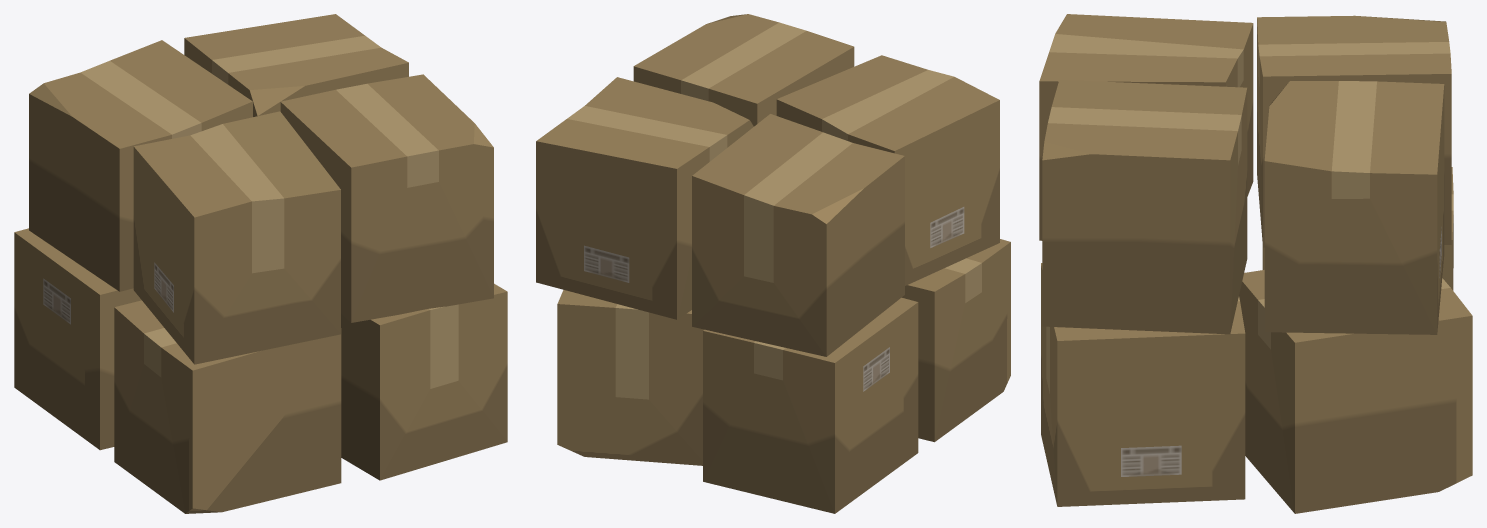
File: SM_Prop_CardboardBox_Stack_01.fbx
3 views of the same model, side by side, from view 1: azimuth 30°, elevation 25°; view 2: azimuth 150°, elevation 25°; view 3: azimuth 270°, elevation 25° (orthographic). The views are drawn at different scales.
Parts seen in each view (by area): view 1: SM_Prop_CardboardBox_Stack_01; view 2: SM_Prop_CardboardBox_Stack_01; view 3: SM_Prop_CardboardBox_Stack_01.
Part boxes in pixels (x1,y1,x2,y2): SM_Prop_CardboardBox_Stack_01: (14, 14, 507, 513); SM_Prop_CardboardBox_Stack_01: (536, 14, 1010, 513); SM_Prop_CardboardBox_Stack_01: (1039, 14, 1472, 513).
Bounding box in the file's own units: 101 × 91.67 × 104.
1 material, 1 textured.
